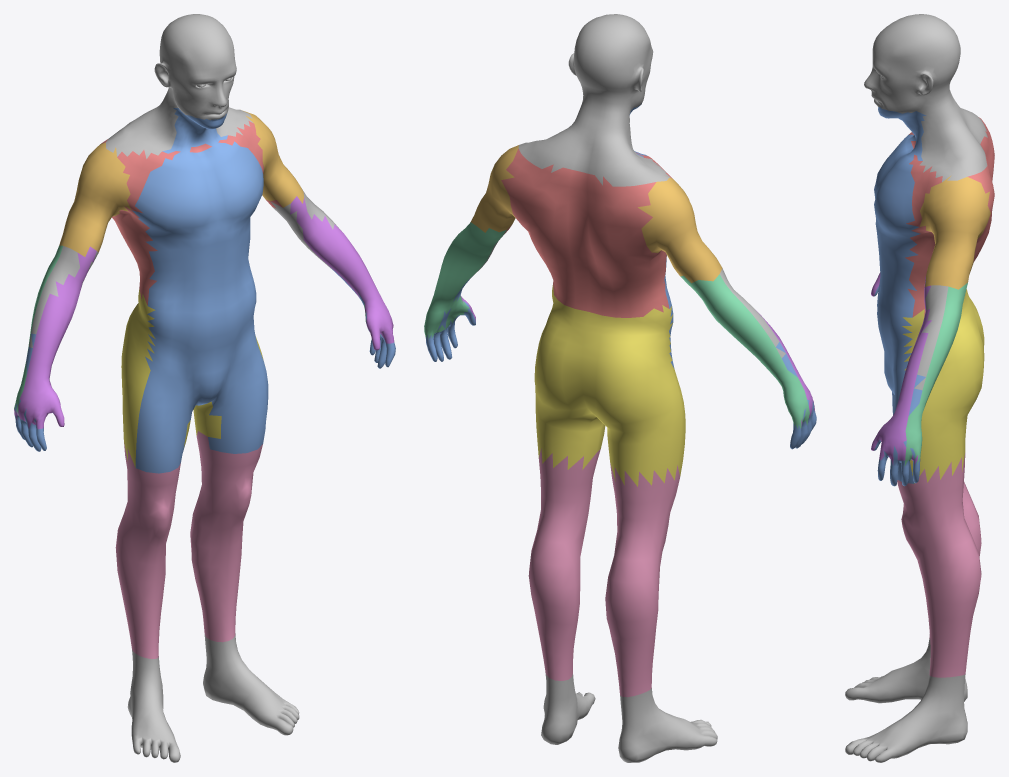
Rendered from male_muscles_named.glb.
3 views of the same model, side by side, from view 1: azimuth 30°, elevation 25°; view 2: azimuth 150°, elevation 25°; view 3: azimuth 270°, elevation 25° (orthographic). The views are drawn at different scales.
Parts seen in each view (by area): view 1: Object_2; view 2: Object_2; view 3: Object_2.
Boxes of the visible parts, <box> form: Object_2: <box>14,14,395,762</box>; Object_2: <box>424,14,816,762</box>; Object_2: <box>845,14,994,762</box>.
Bounding box in the file's own units: 1.08 × 1.96 × 0.3749.
